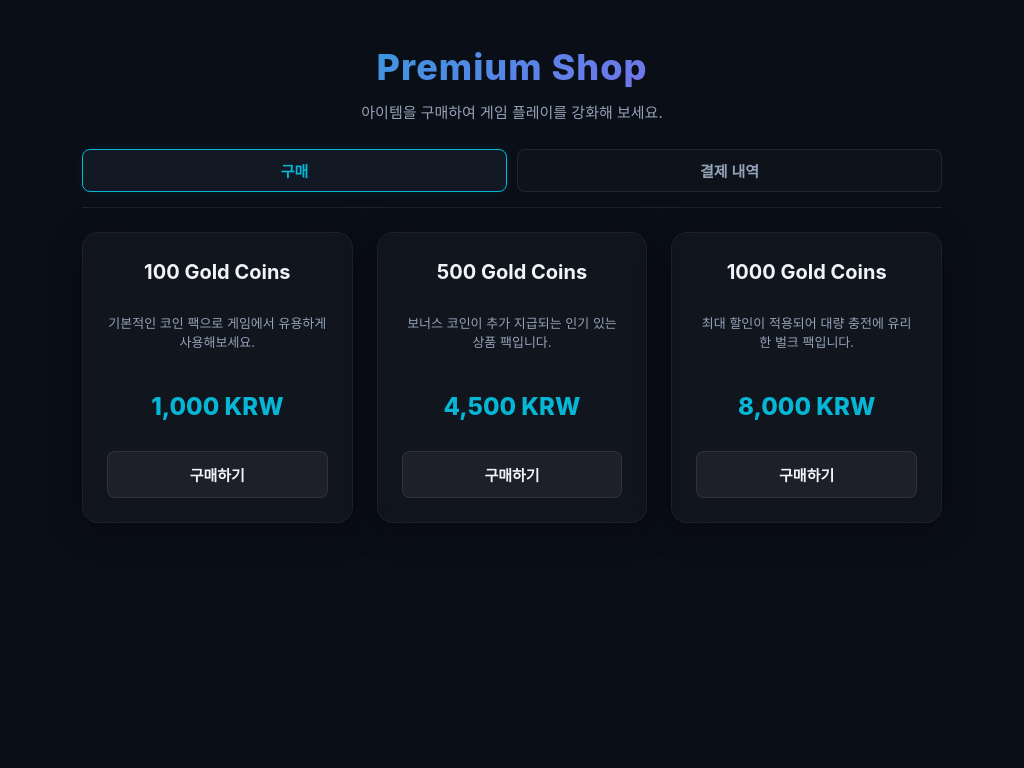
Payment Component › polls for the final status when the payment starts as PENDING
The image size is (1024, 768).
Step 1. Click the button "구매하기" below "1,000" → (217, 474), box [107, 450, 328, 498]
Wait 2000 ms
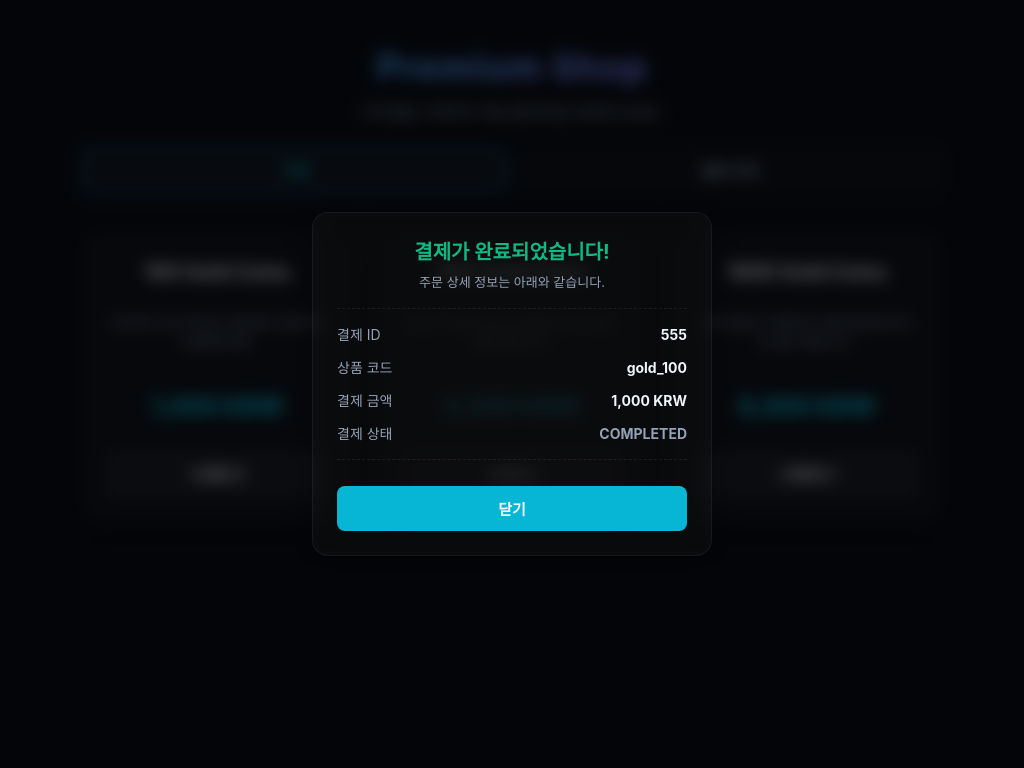
Now the heading "결제가 완료되었습니다!" is shown, box [414, 240, 610, 264]
